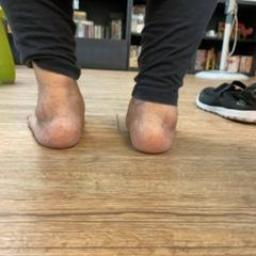Back View -Both Feet-: (14, 63, 196, 172)
